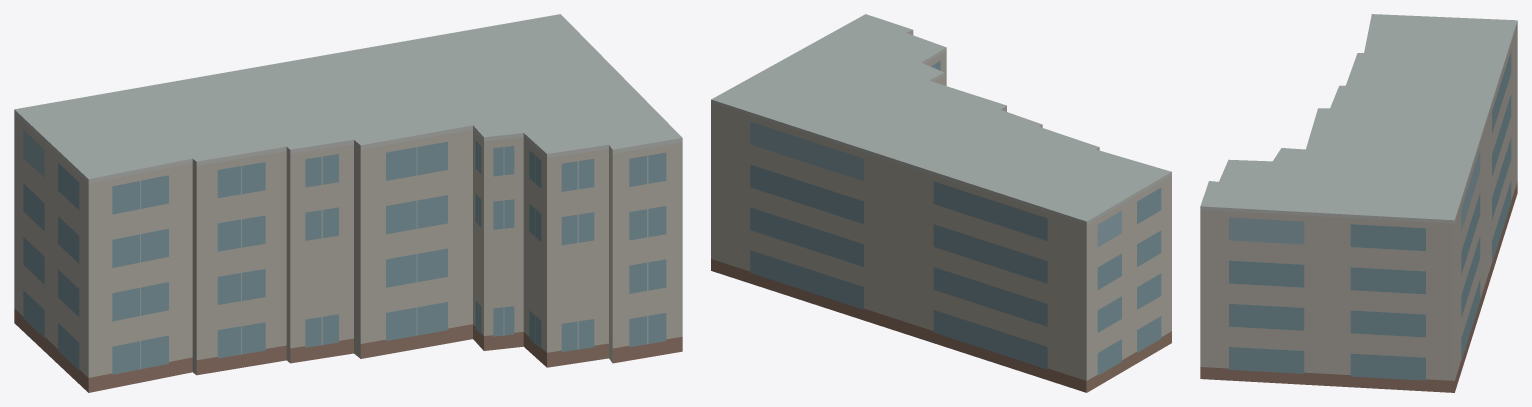
File: survey-upis-32744624.glb
3 renders of one model, left to right at view 1: azimuth 30°, elevation 25°; view 2: azimuth 150°, elevation 25°; view 3: azimuth 270°, elevation 25°, orthographic. The views are drawn at different scales.
Parts seen in each view (by area): view 1: survey-upis-32744624.tmp; view 2: survey-upis-32744624.tmp; view 3: survey-upis-32744624.tmp.
Boxes of the visible parts, left/top/right/bottom form: survey-upis-32744624.tmp: left=14, top=14, right=682, bottom=392; survey-upis-32744624.tmp: left=711, top=14, right=1171, bottom=392; survey-upis-32744624.tmp: left=1200, top=14, right=1517, bottom=392.
Size of the model in its own units: 31.28 by 12.2 by 20.34.
